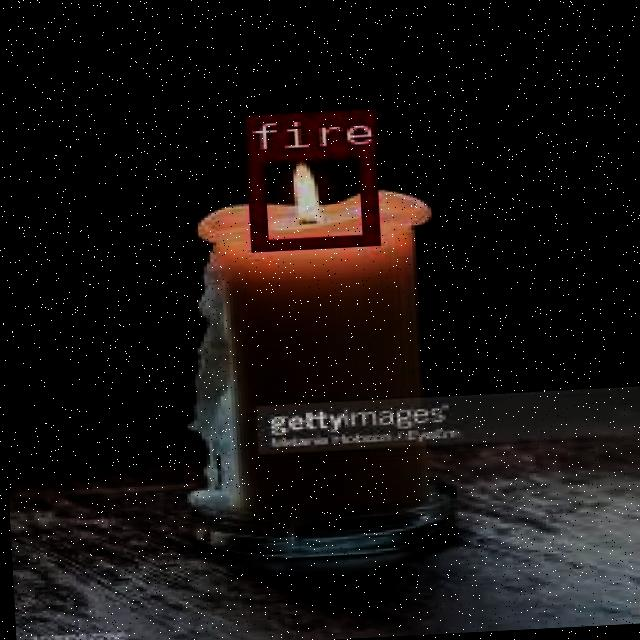fire: (244, 144, 376, 250)
